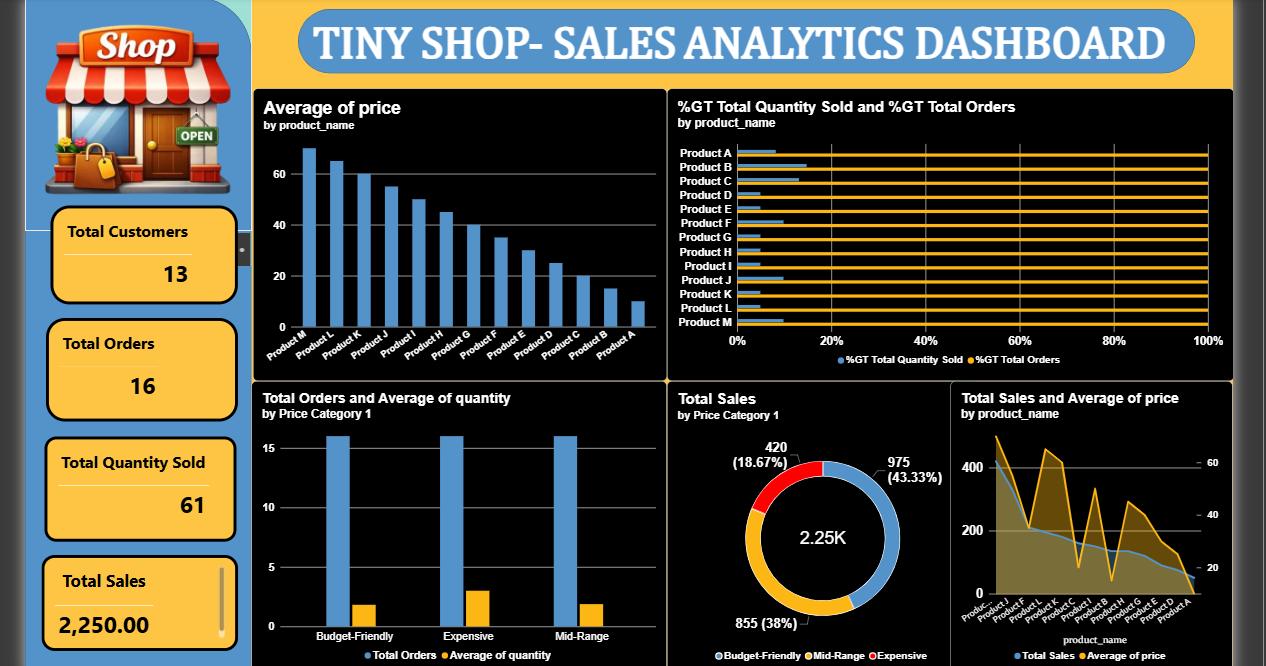

This screenshot's page, from the dashboard's own definition file:
{"tool":"powerbi","page":{"name":"Page 1","canvas":[1920,1080],"ordinal":0},"visuals":[{"type":"shape","box":[0,0,360.3,1080.8],"z":0},{"type":"image","box":[0,0,360,371.3],"z":1000},{"type":"tableEx","fields":{"Values":["tiny_shop customers.Total Customers"]},"box":[40.6,331.6,298.2,157.5],"z":2000},{"type":"tableEx","fields":{"Values":["tiny_shop customers.Total Orders"]},"box":[33.4,510.6,305.4,164.6],"z":3000},{"type":"tableEx","fields":{"Values":["tiny_shop order_items.Total Quantity Sold"]},"box":[31,699.1,305.4,167],"z":4000},{"type":"tableEx","fields":{"Values":["tiny_shop products.Total Sales"]},"box":[26.2,887.6,312.6,152.7],"z":5000},{"type":"clusteredColumnChart","fields":{"Category":["tiny_shop products.product_name"],"Y":["Avg(tiny_shop products.price)"]},"box":[362.7,145.5,658.5,465.3],"z":6000},{"type":"donutChart","fields":{"Category":["tiny_shop products.Price Category 1"],"Y":["tiny_shop products.Total Sales"]},"box":[1021.2,610.8,496.3,470],"z":7000},{"type":"clusteredBarChart","fields":{"Category":["tiny_shop products.product_name"],"Y":["tiny_shop order_items.Total Quantity Sold","tiny_shop customers.Total Orders"]},"box":[1021.2,145.5,901.9,465.3],"z":8000},{"type":"lineClusteredColumnComboChart","fields":{"Category":["tiny_shop products.Price Category 1"],"Y":["tiny_shop customers.Total Orders","Avg(tiny_shop order_items.quantity)"]},"box":[360.3,610.8,660.9,470],"z":9000},{"type":"shape","box":[434.2,19.1,1426.8,102.6],"z":10000},{"type":"areaChart","fields":{"Category":["tiny_shop products.product_name"],"Y":["tiny_shop products.Total Sales"],"Y2":["Avg(tiny_shop products.price)"]},"box":[1472.1,610.8,448.6,470],"z":11000},{"type":"textbox","box":[100,100,300,300],"z":12000},{"type":"textbox","box":[458.1,35.8,649,109.8],"z":13000},{"type":"textbox","box":[1047.4,35.8,873.2,190.9],"z":14000}]}

Visuals, with their boxes on the page's 1920x1080 design canvas (x1, y1, x2, y2). These are canvas units, not pixel positions in the 1266x666 screenshot, which may show the page scaled, cropped or inside an application window:
shape: 0/0/360/1081
image: 0/0/360/371
tableEx - tiny_shop customers.Total Customers: 41/332/339/489
tableEx - tiny_shop customers.Total Orders: 33/511/339/675
tableEx - tiny_shop order_items.Total Quantity Sold: 31/699/336/866
tableEx - tiny_shop products.Total Sales: 26/888/339/1040
clusteredColumnChart - tiny_shop products.product_name x Avg(tiny_shop products.price): 363/146/1021/611
donutChart - tiny_shop products.Price Category 1 x tiny_shop products.Total Sales: 1021/611/1518/1081
clusteredBarChart - tiny_shop products.product_name x tiny_shop order_items.Total Quantity Sold: 1021/146/1923/611
lineClusteredColumnComboChart - tiny_shop products.Price Category 1 x tiny_shop customers.Total Orders: 360/611/1021/1081
shape: 434/19/1861/122
areaChart - tiny_shop products.product_name x tiny_shop products.Total Sales: 1472/611/1921/1081
textbox: 100/100/400/400
textbox: 458/36/1107/146
textbox: 1047/36/1921/227
